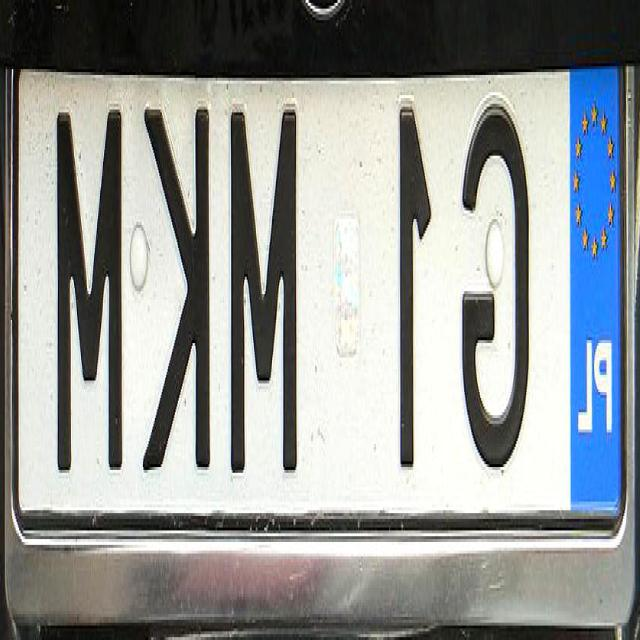pl_license_plate: (19, 66, 623, 519)
